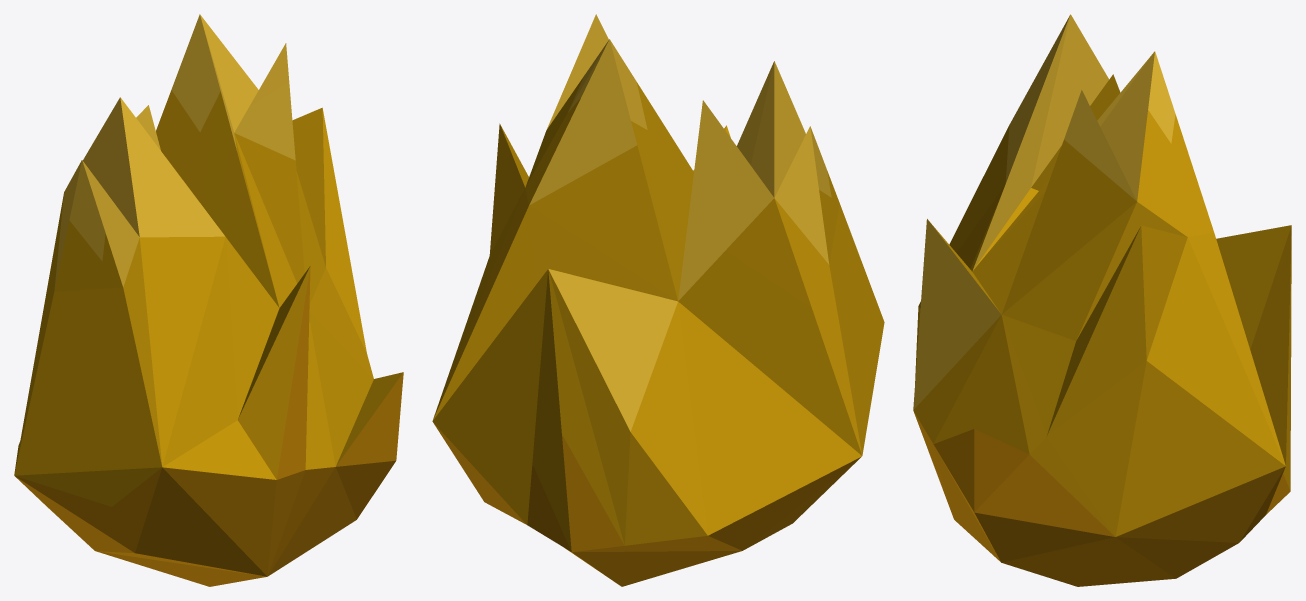
The model's file is Prop_Fire_Static_01.fbx.
3 renders of one model, left to right at view 1: azimuth 30°, elevation 25°; view 2: azimuth 150°, elevation 25°; view 3: azimuth 270°, elevation 25°, orthographic.
Parts seen in each view (by area): view 1: Prop_Fire_Static_01; view 2: Prop_Fire_Static_01; view 3: Prop_Fire_Static_01.
Part boxes in pixels (left/top/right/bottom): Prop_Fire_Static_01: left=14, top=14, right=403, bottom=586; Prop_Fire_Static_01: left=432, top=14, right=884, bottom=586; Prop_Fire_Static_01: left=913, top=14, right=1291, bottom=586.
Bounding box in the file's own units: 757 × 1098 × 706.
